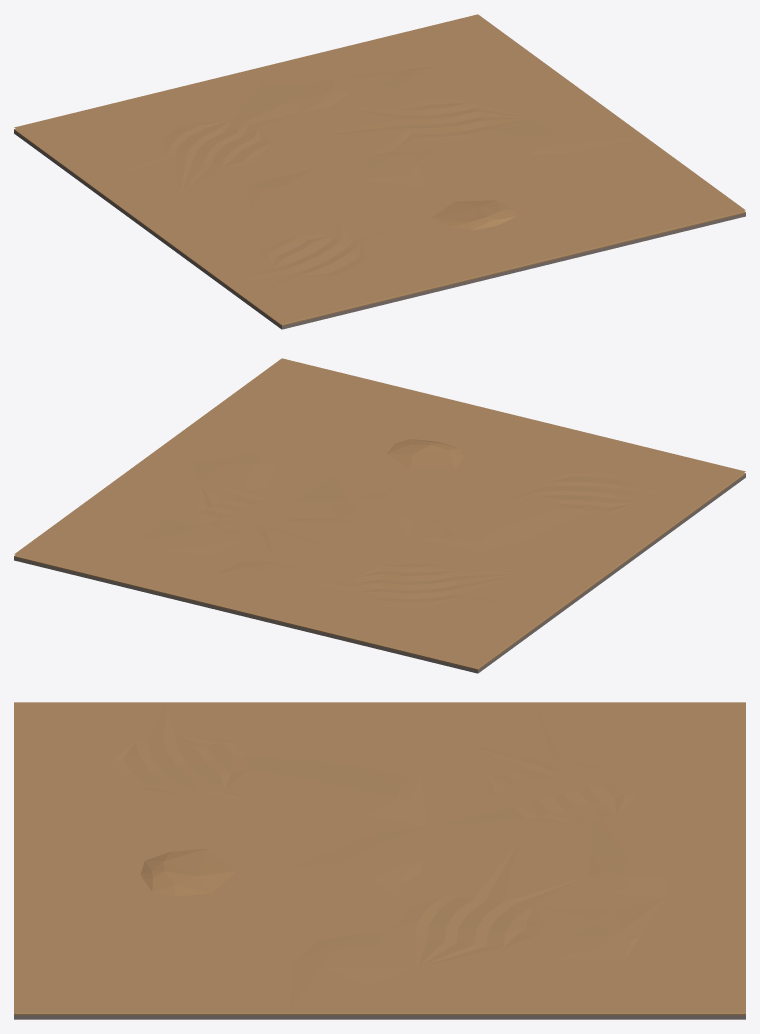
File: desert-floor-tile-cf69a2.glb
The picture shows the model from 3 angles, top to bottom: view 1: azimuth 30°, elevation 25°; view 2: azimuth 150°, elevation 25°; view 3: azimuth 270°, elevation 25°; orthographic projection. The views are drawn at different scales.
Visible parts, largest first — view 1: desert-floor; view 2: desert-floor; view 3: desert-floor.
Boxes of the visible parts, x1=… form: desert-floor: x1=14, y1=14, x2=745, y2=329; desert-floor: x1=14, y1=358, x2=745, y2=673; desert-floor: x1=14, y1=702, x2=745, y2=1019.
Bounding box in the file's own units: 4 × 0.0752 × 4.
